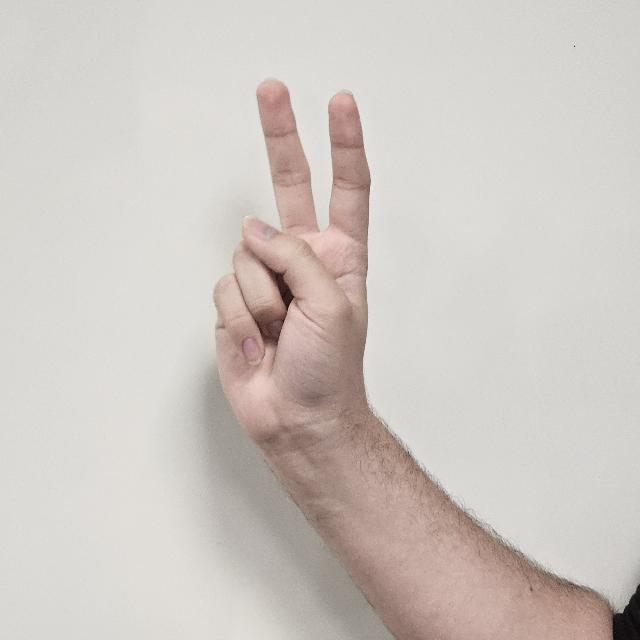Triangulo: (208, 79, 390, 471)
